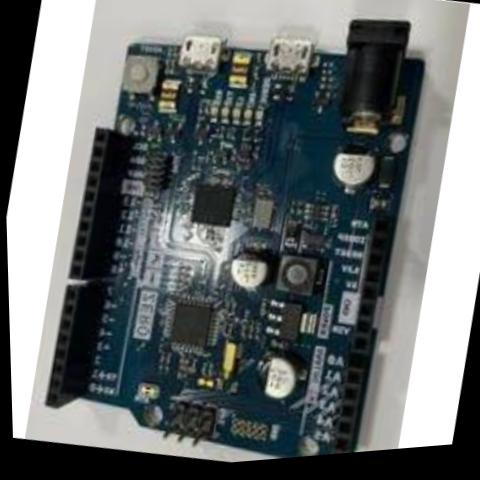Arduino-Zero: (17, 0, 461, 479)
